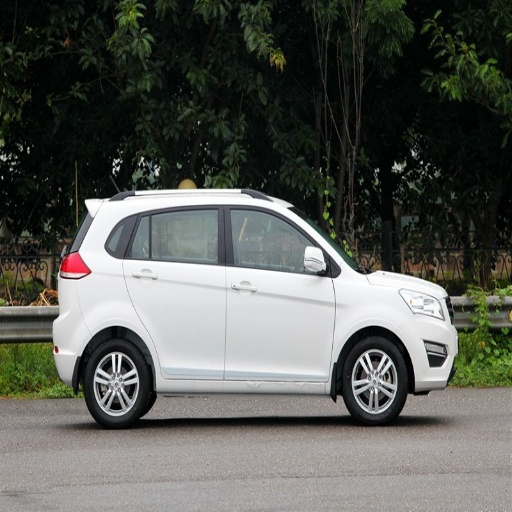back_right_door: (125, 202, 225, 379)
front_right_door: (224, 203, 335, 380)
